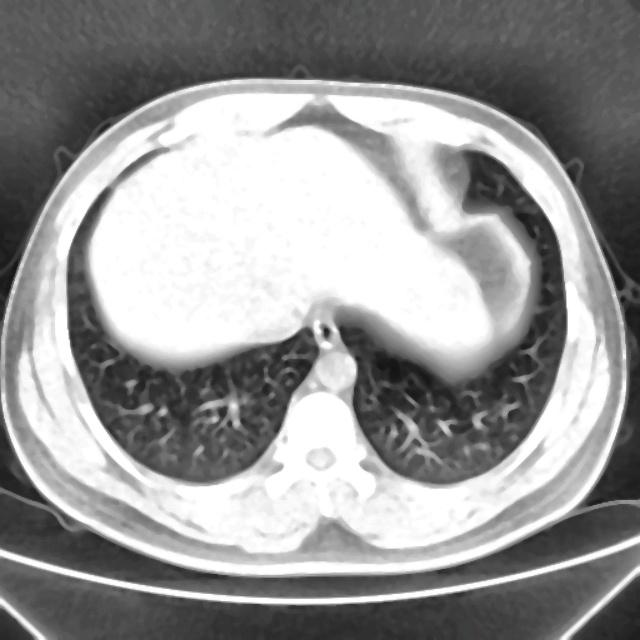covid: (0, 76, 631, 576)
